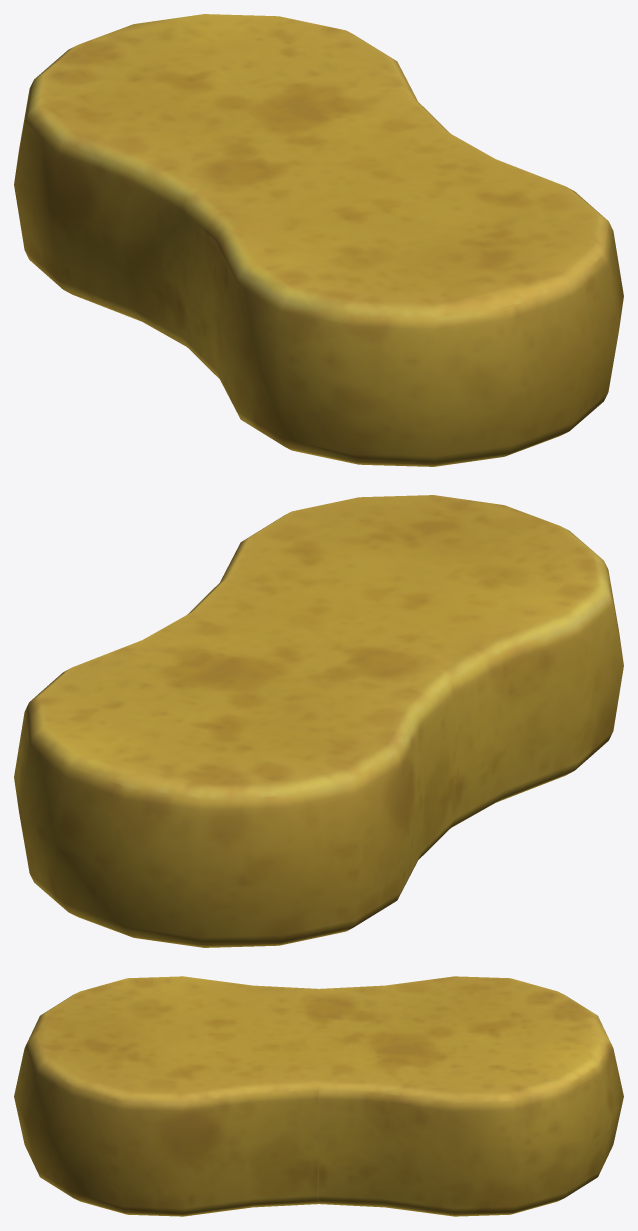
File: SM_Sponge_02.fbx
3 renders of one model, top to bottom at view 1: azimuth 30°, elevation 25°; view 2: azimuth 150°, elevation 25°; view 3: azimuth 270°, elevation 25°, orthographic. The views are drawn at different scales.
Parts seen in each view (by area): view 1: SM_Sponge_02_LOD0; view 2: SM_Sponge_02_LOD0; view 3: SM_Sponge_02_LOD0.
Part boxes in pixels (left/top/right/bottom): SM_Sponge_02_LOD0: left=14, top=14, right=623, bottom=466; SM_Sponge_02_LOD0: left=14, top=495, right=623, bottom=947; SM_Sponge_02_LOD0: left=14, top=976, right=623, bottom=1216.
Size of the model in its own units: 6.31 by 12.35 by 2.75.
Materials: 1 (1 with a texture image).
